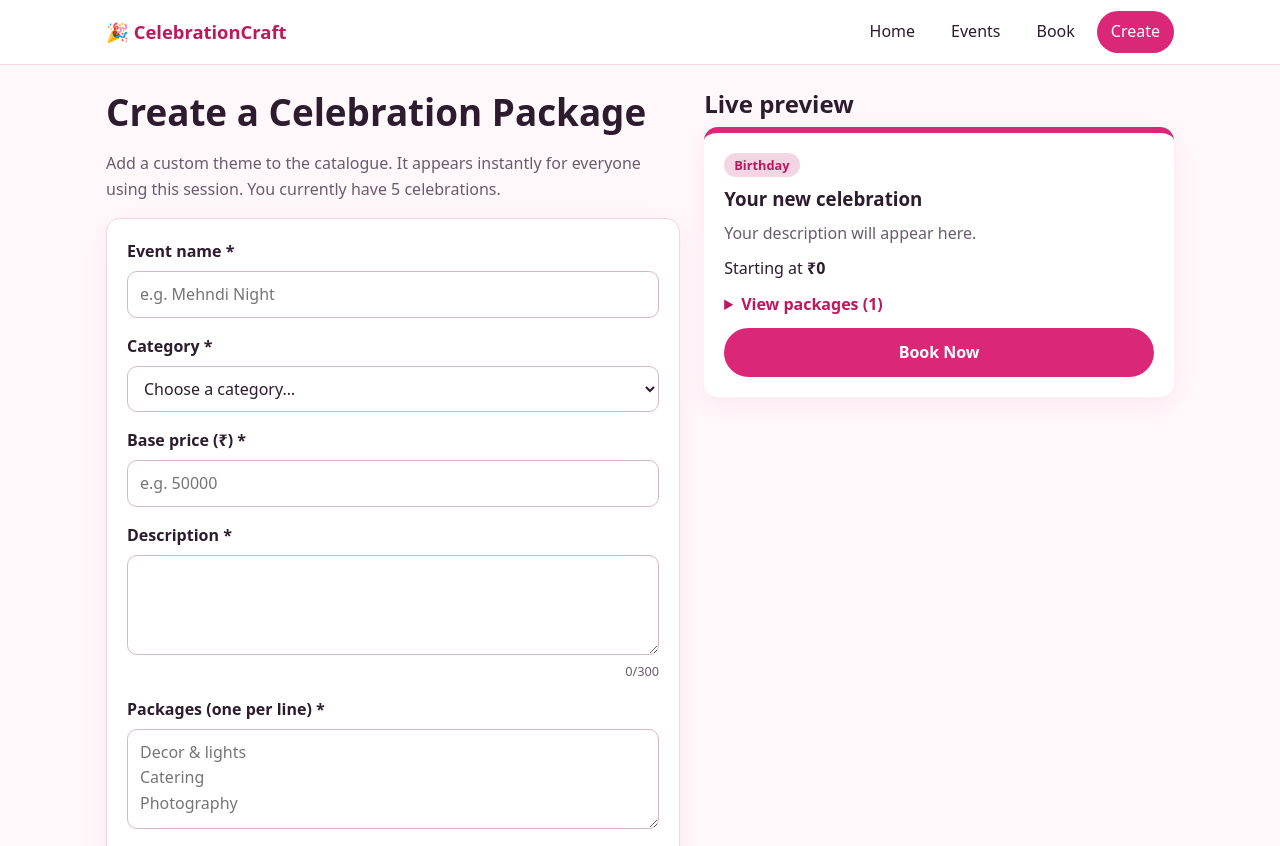
Create celebration form › rejects a name shorter than 3 characters
Type "AB" into the field labelled "Event name *" at (393, 295), box x1=127 y1=271 x2=659 y2=318
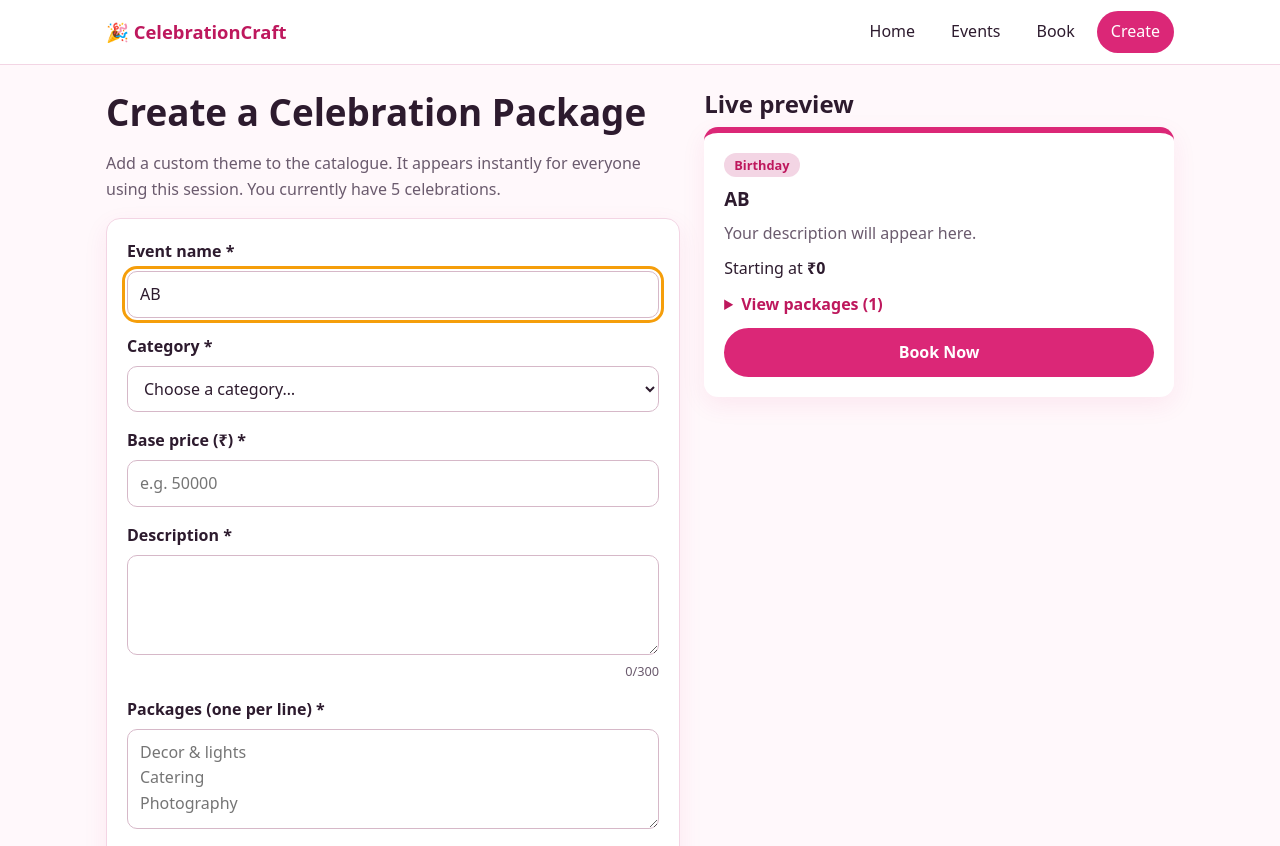
Select "Marriage" in the dropdown labelled "Category *" at (393, 389), box x1=127 y1=366 x2=659 y2=412
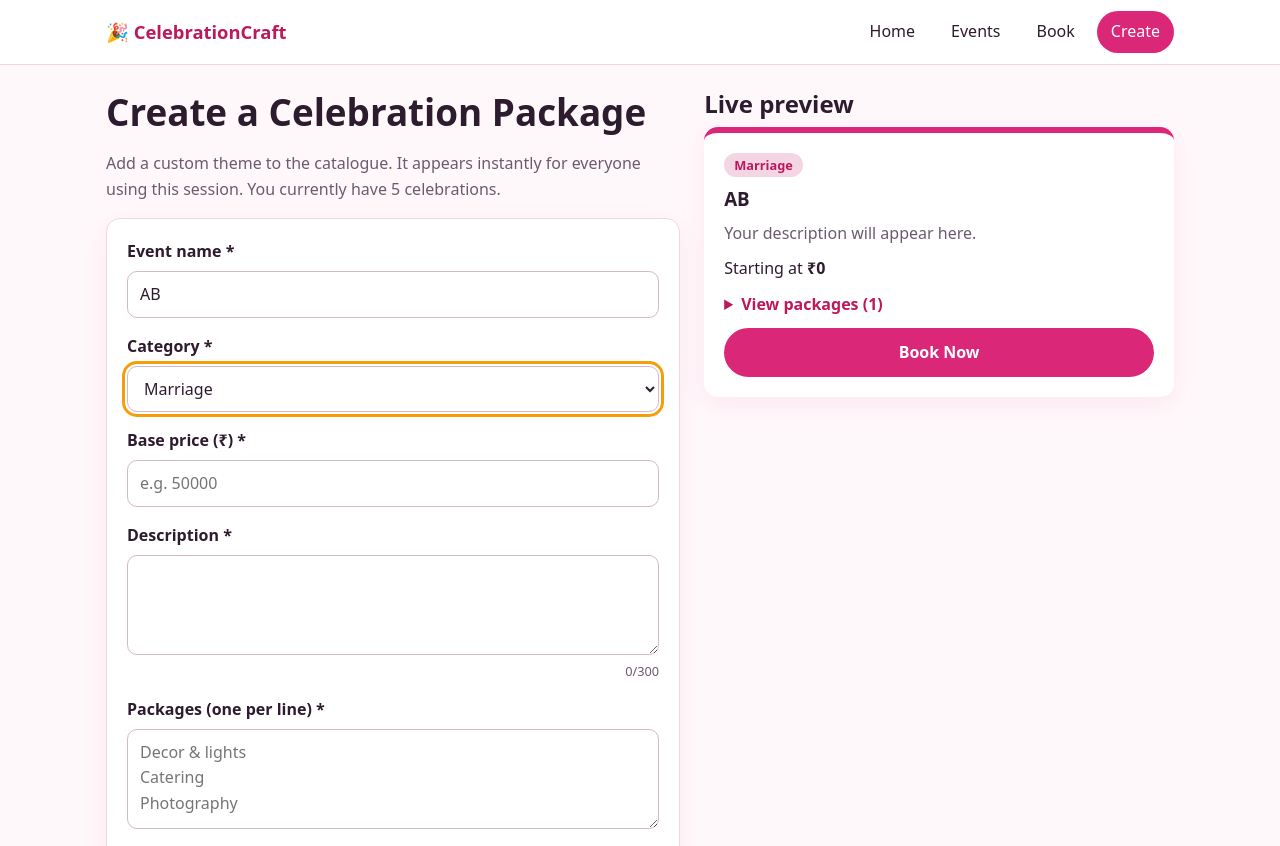
Type "50000" into the number field labelled "Base price (₹) *" at (393, 483), box x1=127 y1=460 x2=659 y2=507
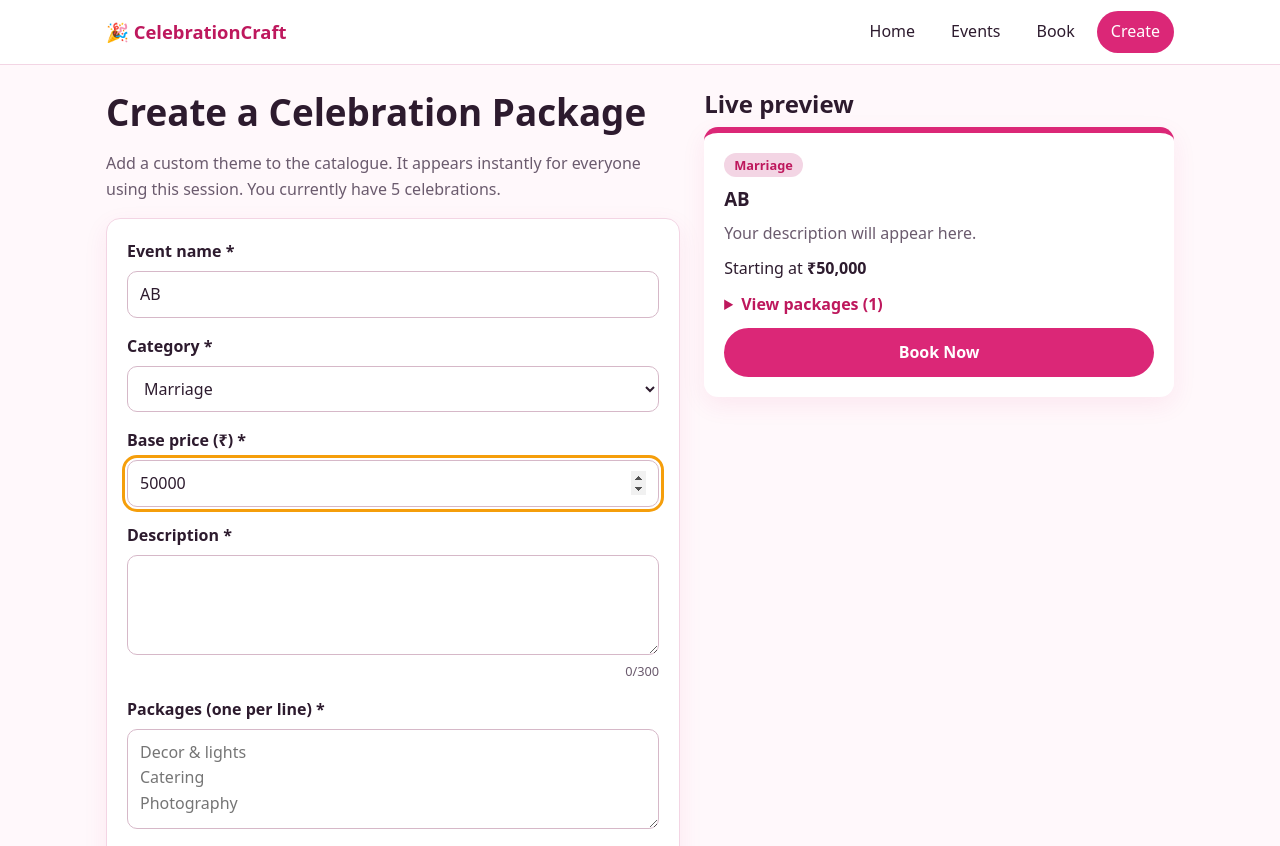
Type "A colourful mehndi evening with music." into the text box labelled "Description *" at (393, 605), box x1=127 y1=555 x2=659 y2=655
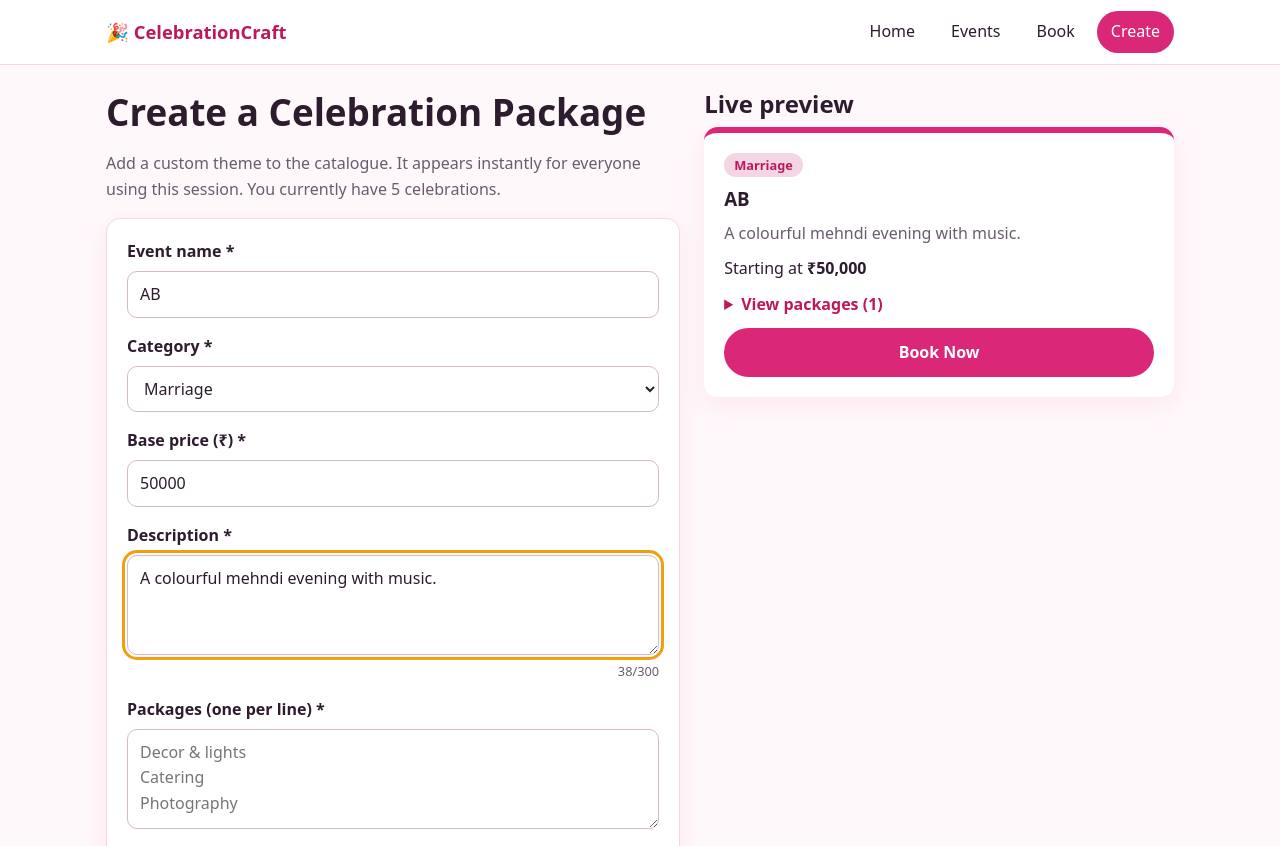
Type "Decor & lights" into the text box labelled "Packages (one per line) *" at (393, 779), box x1=127 y1=729 x2=659 y2=829
(page scrolled)
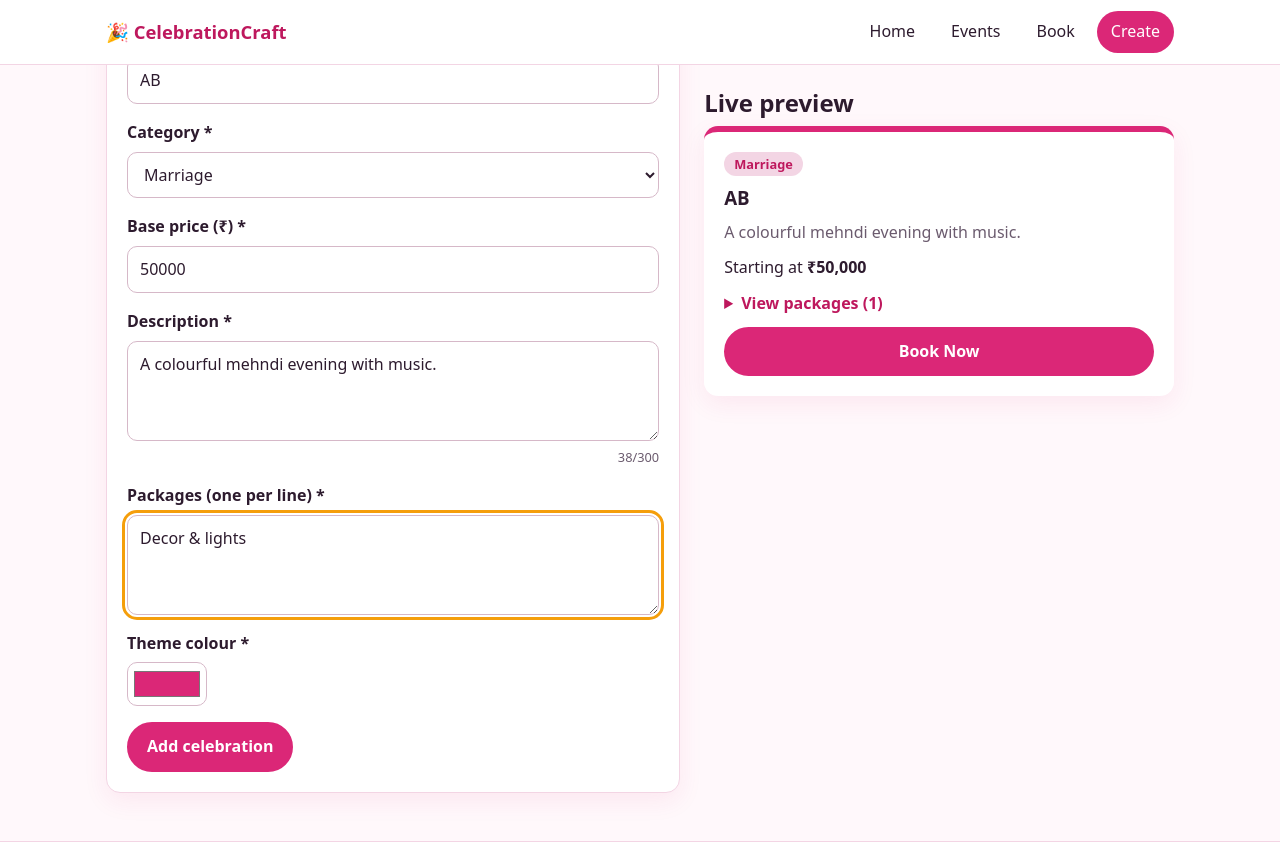
Click the button "Add celebration" at (210, 747), box x1=127 y1=722 x2=294 y2=772
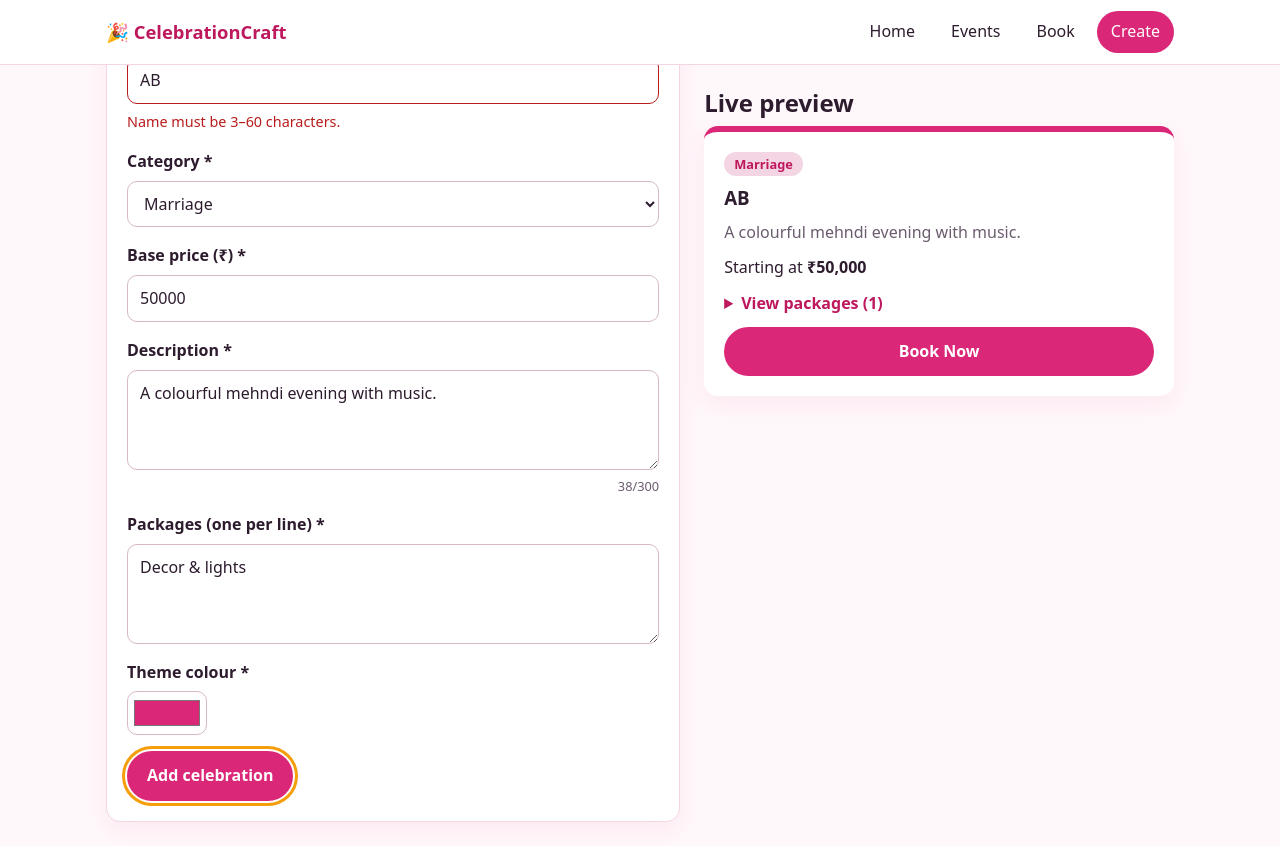
Expected: the text "Name must be 3–60 characters." is shown, x1=127 y1=112 x2=340 y2=131
